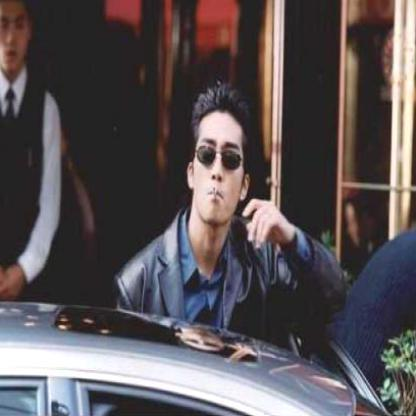person: (114, 86, 298, 318), (0, 0, 68, 297)
